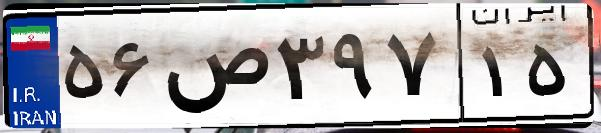1: (475, 38, 525, 113)
3: (270, 28, 330, 110)
5: (57, 26, 110, 100), (525, 38, 570, 115)
6: (110, 28, 158, 98)
7: (385, 28, 445, 110)
9: (330, 28, 385, 110)
ص: (158, 20, 270, 120)
